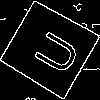U: (24, 23, 82, 78)
